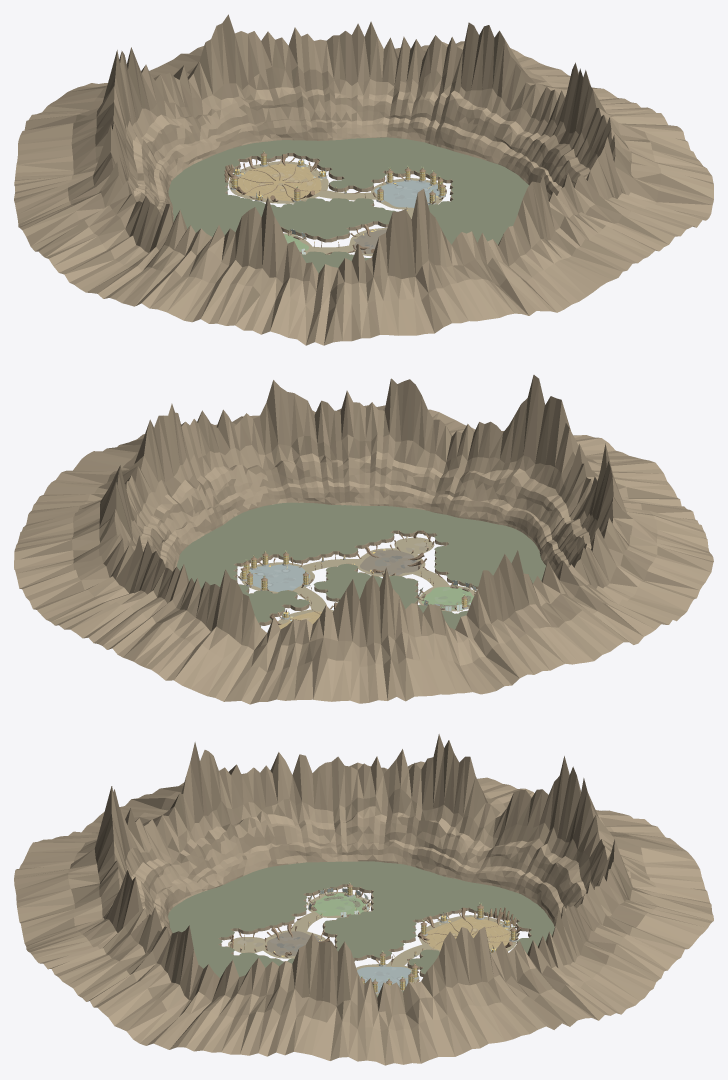
The model's file is map_dg_viveiro.glb.
3 renders of one model, top to bottom at view 1: azimuth 30°, elevation 25°; view 2: azimuth 150°, elevation 25°; view 3: azimuth 270°, elevation 25°, orthographic.
Parts seen in each view (by area): view 1: Z_dg_viveiro_penhascos, Z_dg_viveiro_morro_parede_0_0, Z_dg_viveiro_chao_berco, Z_dg_viveiro_chao_tanques, Z_dg_viveiro_det_obj_-1_-2, Z_dg_viveiro_praca_berco; view 2: Z_dg_viveiro_penhascos, Z_dg_viveiro_morro_parede_0_0, Z_dg_viveiro_chao_tanques, Z_dg_viveiro_chao_raizes, Z_dg_viveiro_chao_estufa; view 3: Z_dg_viveiro_penhascos, Z_dg_viveiro_morro_parede_0_0, Z_dg_viveiro_chao_berco, Z_dg_viveiro_det_obj_-1_-2, Z_dg_viveiro_chao_estufa, Z_dg_viveiro_chao_tanques, Z_dg_viveiro_chao_raizes.
Boxes of the visible parts, x1=… form: Z_dg_viveiro_penhascos: x1=14, y1=14, x2=713, y2=345; Z_dg_viveiro_morro_parede_0_0: x1=168, y1=137, x2=528, y2=273; Z_dg_viveiro_chao_berco: x1=235, y1=163, x2=321, y2=201; Z_dg_viveiro_chao_tanques: x1=374, y1=180, x2=439, y2=207; Z_dg_viveiro_det_obj_-1_-2: x1=224, y1=150, x2=327, y2=200; Z_dg_viveiro_praca_berco: x1=229, y1=161, x2=328, y2=203; Z_dg_viveiro_penhascos: x1=14, y1=375, x2=713, y2=704; Z_dg_viveiro_morro_parede_0_0: x1=177, y1=502, x2=545, y2=629; Z_dg_viveiro_chao_tanques: x1=246, y1=564, x2=310, y2=591; Z_dg_viveiro_chao_raizes: x1=360, y1=550, x2=421, y2=574; Z_dg_viveiro_chao_estufa: x1=421, y1=587, x2=473, y2=609; Z_dg_viveiro_penhascos: x1=14, y1=734, x2=713, y2=1065; Z_dg_viveiro_morro_parede_0_0: x1=168, y1=861, x2=554, y2=997; Z_dg_viveiro_chao_berco: x1=425, y1=917, x2=510, y2=952; Z_dg_viveiro_det_obj_-1_-2: x1=419, y1=902, x2=521, y2=949; Z_dg_viveiro_chao_estufa: x1=312, y1=893, x2=365, y2=916; Z_dg_viveiro_chao_tanques: x1=357, y1=966, x2=411, y2=993; Z_dg_viveiro_chao_raizes: x1=266, y1=931, x2=321, y2=956.
Size of the model in its own units: 281 by 59.64 by 282.
